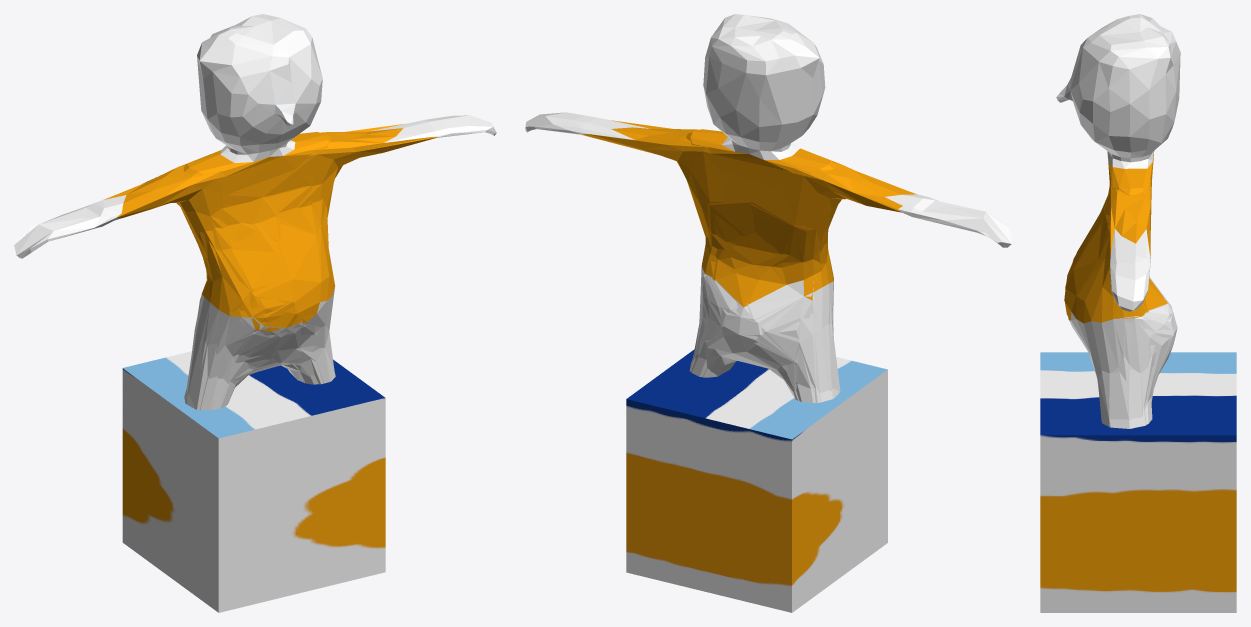
File: lowpoly.fbx
3 views of the same model, side by side, from view 1: azimuth 30°, elevation 25°; view 2: azimuth 150°, elevation 25°; view 3: azimuth 270°, elevation 25° (orthographic). The views are drawn at different scales.
Visible parts, largest first — view 1: Man, Rock; view 2: Rock, Man; view 3: Rock, Man.
Boxes of the visible parts, x1,y1,x2,y2 form: Man: (14,14,496,410); Rock: (122,351,385,612); Rock: (626,349,887,612); Man: (525,14,1011,402); Rock: (1040,352,1236,612); Man: (1056,14,1180,428).
Size of the model in its own units: 579 by 610 by 200.
